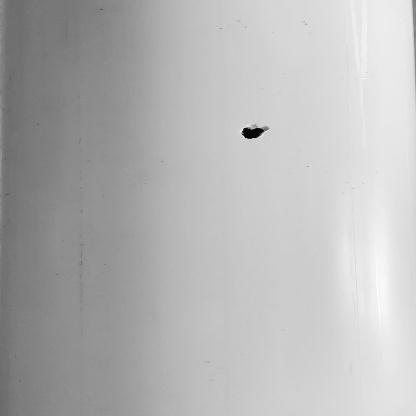kongdong: (236, 112, 289, 146)
